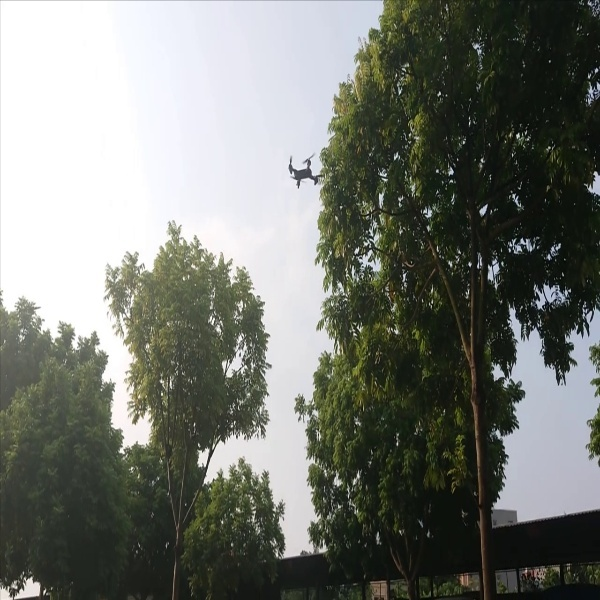drone: (283, 148, 323, 194)
